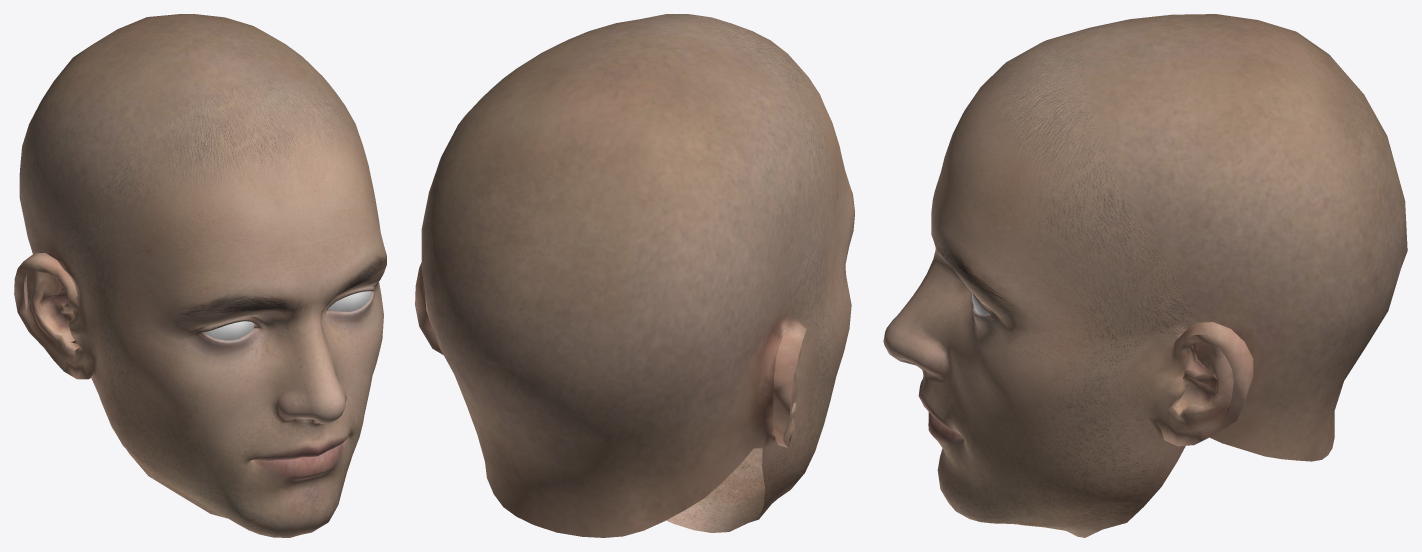
Rendered from Male.obj.
3 renders of one model, left to right at view 1: azimuth 30°, elevation 25°; view 2: azimuth 150°, elevation 25°; view 3: azimuth 270°, elevation 25°, orthographic. The views are drawn at different scales.
Visible parts, largest first — view 1: Head, rEye, lEye; view 2: Head; view 3: Head.
Part boxes in pixels (left/top/right/bottom): Head: left=14, top=14, right=386, bottom=537; rEye: left=203, top=321, right=254, bottom=340; lEye: left=328, top=291, right=371, bottom=311; Head: left=415, top=14, right=854, bottom=537; Head: left=883, top=14, right=1407, bottom=537.
Size of the model in its own units: 18.47 by 24.67 by 23.42.
